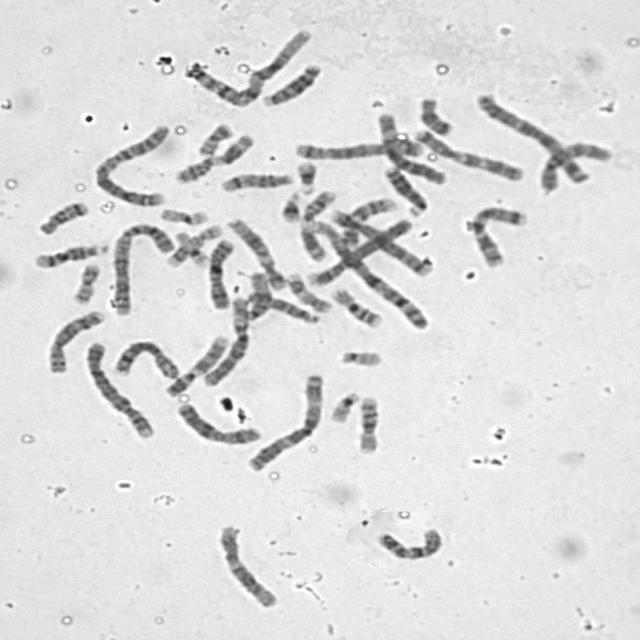A1: (304, 212, 429, 331), (179, 22, 314, 108)
A2: (88, 118, 175, 208), (105, 216, 177, 317)
A3: (469, 86, 593, 186), (240, 367, 328, 472)
B4: (302, 211, 416, 287), (78, 336, 156, 440)
B5: (321, 201, 437, 279), (288, 132, 428, 162)
C10: (533, 135, 615, 193), (368, 520, 446, 562)
C11: (168, 127, 257, 185), (294, 184, 339, 263)
C12: (212, 520, 280, 609), (222, 212, 290, 292)
C6: (371, 106, 449, 186), (197, 290, 253, 388)
C7: (404, 122, 526, 182), (462, 199, 530, 270)
C8: (39, 304, 107, 375), (107, 334, 183, 380)
C9: (158, 329, 232, 398), (333, 191, 400, 248)
D13: (254, 56, 323, 108), (378, 159, 430, 217)
D14: (26, 236, 110, 269), (214, 165, 297, 194)
D15: (238, 286, 321, 325), (237, 265, 272, 322)
E16: (324, 282, 386, 329), (352, 390, 384, 455)
E17: (160, 219, 226, 268), (280, 266, 333, 313)
E18: (32, 194, 92, 237), (411, 91, 455, 137)
F19: (168, 228, 210, 268), (154, 201, 211, 226)
F20: (190, 116, 236, 157), (65, 257, 103, 305)
G21: (290, 155, 320, 195), (275, 185, 304, 224)
G22: (323, 384, 363, 424), (332, 343, 384, 368)
X: (169, 397, 264, 446), (201, 233, 236, 311)
